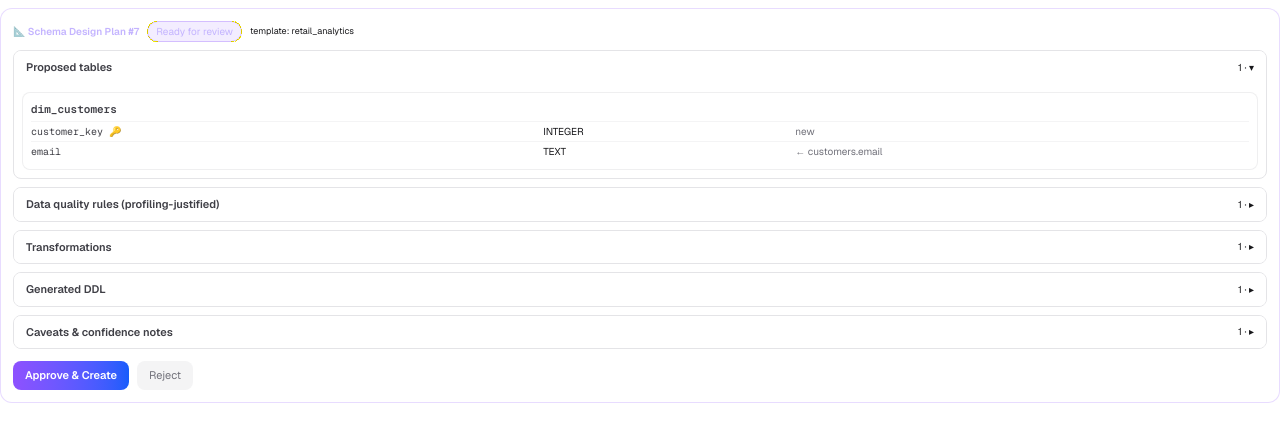
Scenario: SchemaDesignPlanCard › surfaces an approve failure without losing the plan
Click the button "Approve & Create" at (71, 375), box left=13, top=361, right=129, bottom=390
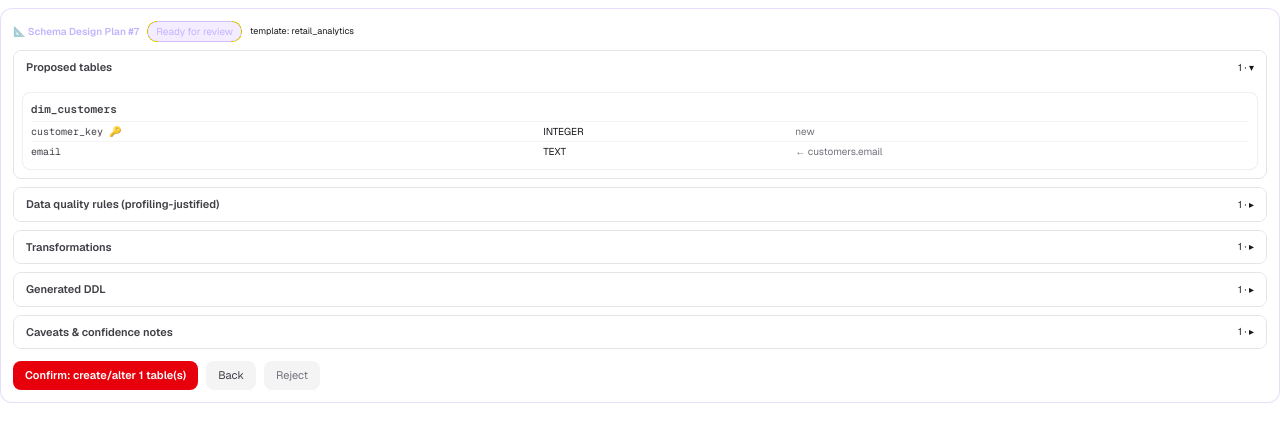
Click the button "Confirm: create/alter 1 table(s)" at (106, 375), box left=13, top=361, right=198, bottom=390
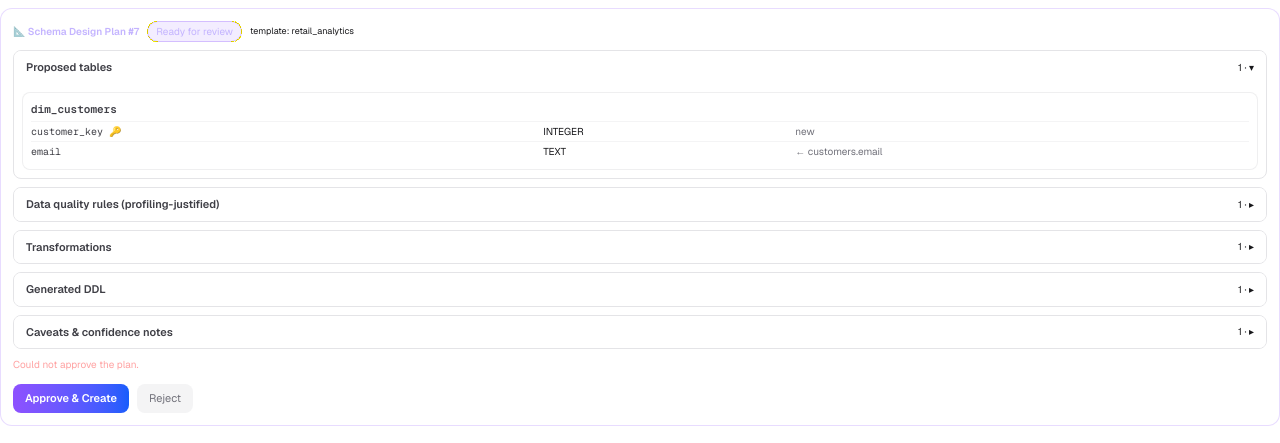
Expected: the text "dim_customers" is shown, left=31, top=102, right=117, bottom=116
Expected: the text "Could not approve the plan." is shown, left=13, top=358, right=139, bottom=371
